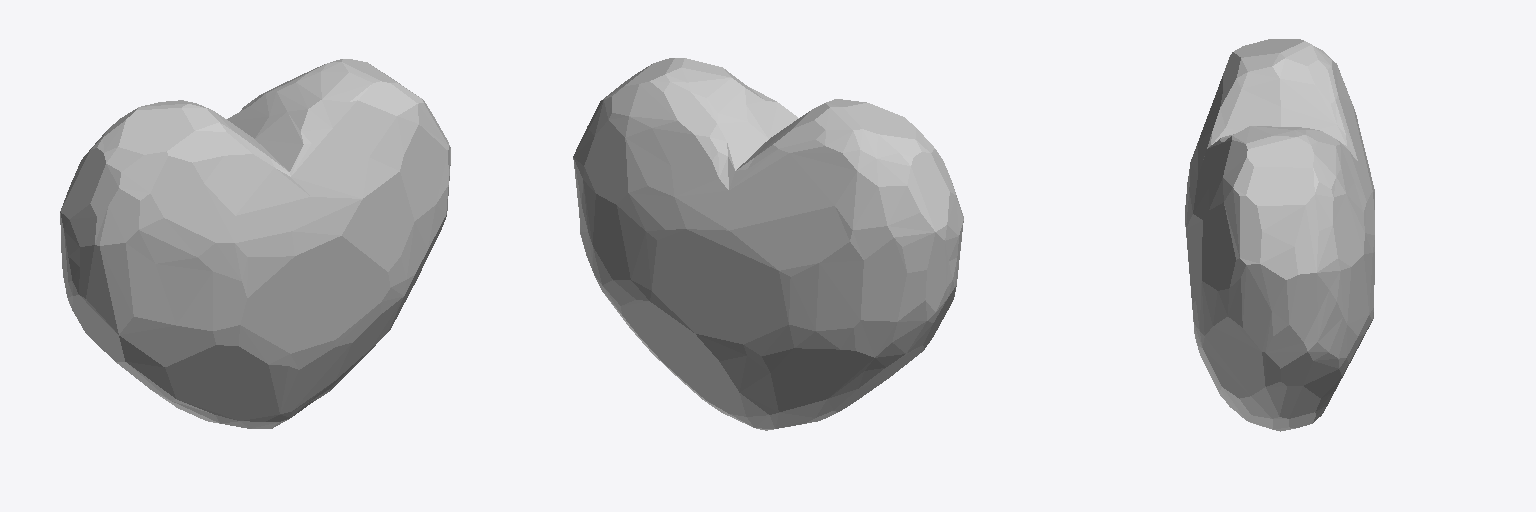
File: heart.obj
3 views of the same model, side by side, from view 1: azimuth 30°, elevation 25°; view 2: azimuth 150°, elevation 25°; view 3: azimuth 270°, elevation 25° (orthographic).
Parts seen in each view (by area): view 1: Crystal_Heart_Crystal_Heart_Mat_1; view 2: Crystal_Heart_Crystal_Heart_Mat_1; view 3: Crystal_Heart_Crystal_Heart_Mat_1.
Part boxes in pixels (x1,y1,x2,y2): Crystal_Heart_Crystal_Heart_Mat_1: (60, 59, 450, 428); Crystal_Heart_Crystal_Heart_Mat_1: (573, 58, 963, 430); Crystal_Heart_Crystal_Heart_Mat_1: (1185, 39, 1374, 431).
Size of the model in its own units: 116 by 99.9 by 51.79.